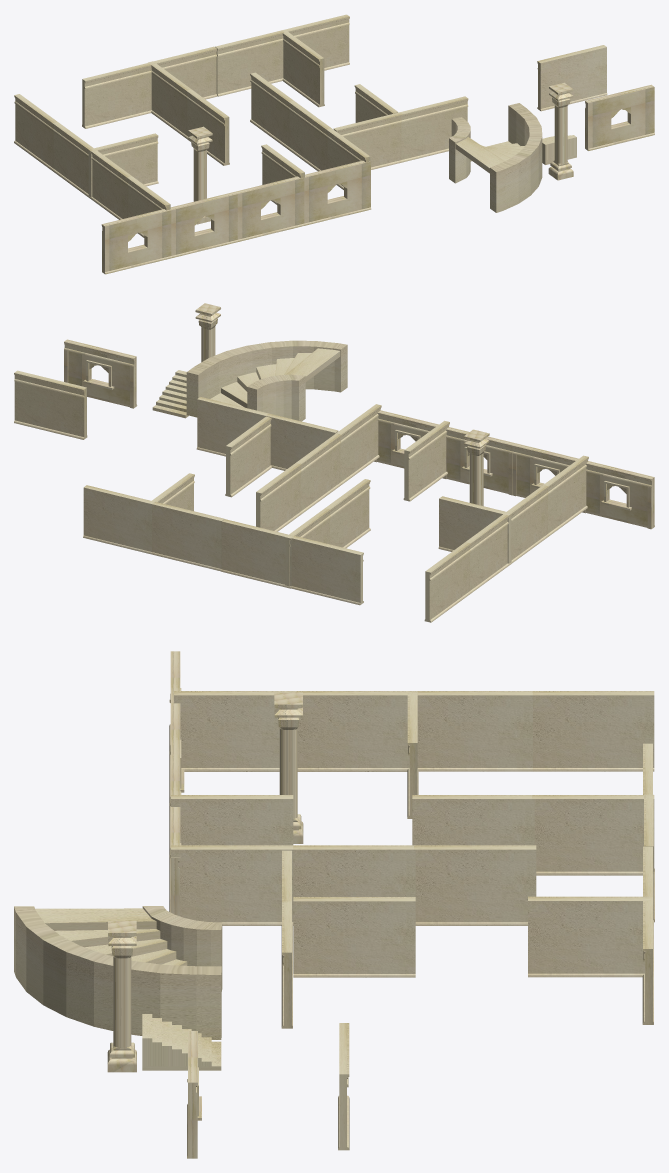
Rendered from Aum's Ai test map, better.fbx.
The picture shows the model from 3 angles, top to bottom: view 1: azimuth 30°, elevation 25°; view 2: azimuth 150°, elevation 25°; view 3: azimuth 270°, elevation 25°; orthographic projection. The views are drawn at different scales.
Visible parts, largest first — view 1: curved stair w, palace wall a.008, window palace wall a, window palace wall a.004, window palace wall a.002, window palace wall a.003, window palace wall a.001, palace wall a.017, palace wall a, palace wall a.016, palace wall a.014, palace wall a.018 (+17 smaller); view 2: curved stair w, palace wall a, palace wall a.008, palace wall a.017, palace wall a.019, palace wall a.007, window palace wall a.004, window palace wall a, window palace wall a.002, palace wall a.016, palace wall a.006, palace wall a.015 (+17 smaller); view 3: curved stair w, palace wall a.015, palace wall a.013, palace wall a.006, palace wall a.018, palace wall a.005, palace wall a.009, palace wall a.003, palace wall a.011, palace wall a.002, palace wall a.012, palace wall a.010 (+11 smaller).
Boxes of the visible parts, x1,y1,x2,y2 form: curved stair w: [449, 103, 542, 212]; palace wall a.008: [82, 63, 151, 128]; window palace wall a: [585, 84, 654, 150]; window palace wall a.004: [101, 209, 171, 274]; window palace wall a.002: [235, 176, 304, 241]; window palace wall a.003: [170, 192, 238, 257]; window palace wall a.001: [304, 160, 371, 225]; palace wall a.017: [215, 30, 283, 96]; palace wall a: [537, 45, 607, 111]; palace wall a.016: [400, 96, 468, 162]; palace wall a.014: [333, 112, 402, 169]; palace wall a.018: [282, 30, 324, 107]; curved stair w: [186, 340, 347, 421]; palace wall a: [14, 370, 87, 439]; palace wall a.008: [291, 535, 363, 605]; palace wall a.017: [151, 502, 224, 571]; palace wall a.019: [83, 485, 152, 554]; palace wall a.007: [221, 519, 293, 588]; window palace wall a.004: [582, 461, 654, 529]; window palace wall a: [64, 339, 137, 408]; window palace wall a.002: [443, 427, 514, 495]; palace wall a.016: [196, 397, 269, 456]; palace wall a.006: [424, 542, 471, 622]; palace wall a.015: [225, 416, 271, 497]; curved stair w: [14, 906, 222, 1039]; palace wall a.015: [293, 897, 415, 977]; palace wall a.013: [414, 845, 536, 925]; palace wall a.006: [532, 691, 654, 771]; palace wall a.018: [528, 896, 650, 977]; palace wall a.005: [410, 691, 532, 771]; palace wall a.009: [532, 795, 654, 875]; palace wall a.003: [295, 691, 417, 771]; palace wall a.011: [171, 845, 293, 925]; palace wall a.002: [174, 691, 296, 771]; palace wall a.012: [293, 845, 415, 896]; palace wall a.010: [412, 795, 534, 845].
Size of the model in its own units: 4642 by 2917 by 755.
1 material, 1 textured.
